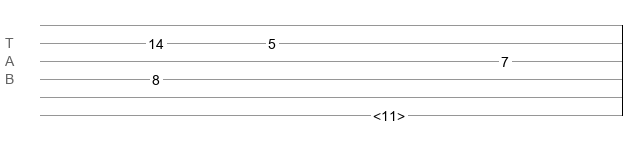14: (148, 36, 164, 46)
5: (268, 36, 276, 46)
7: (501, 54, 509, 64)
8: (152, 72, 160, 82)
harmonic: (373, 108, 405, 118)
